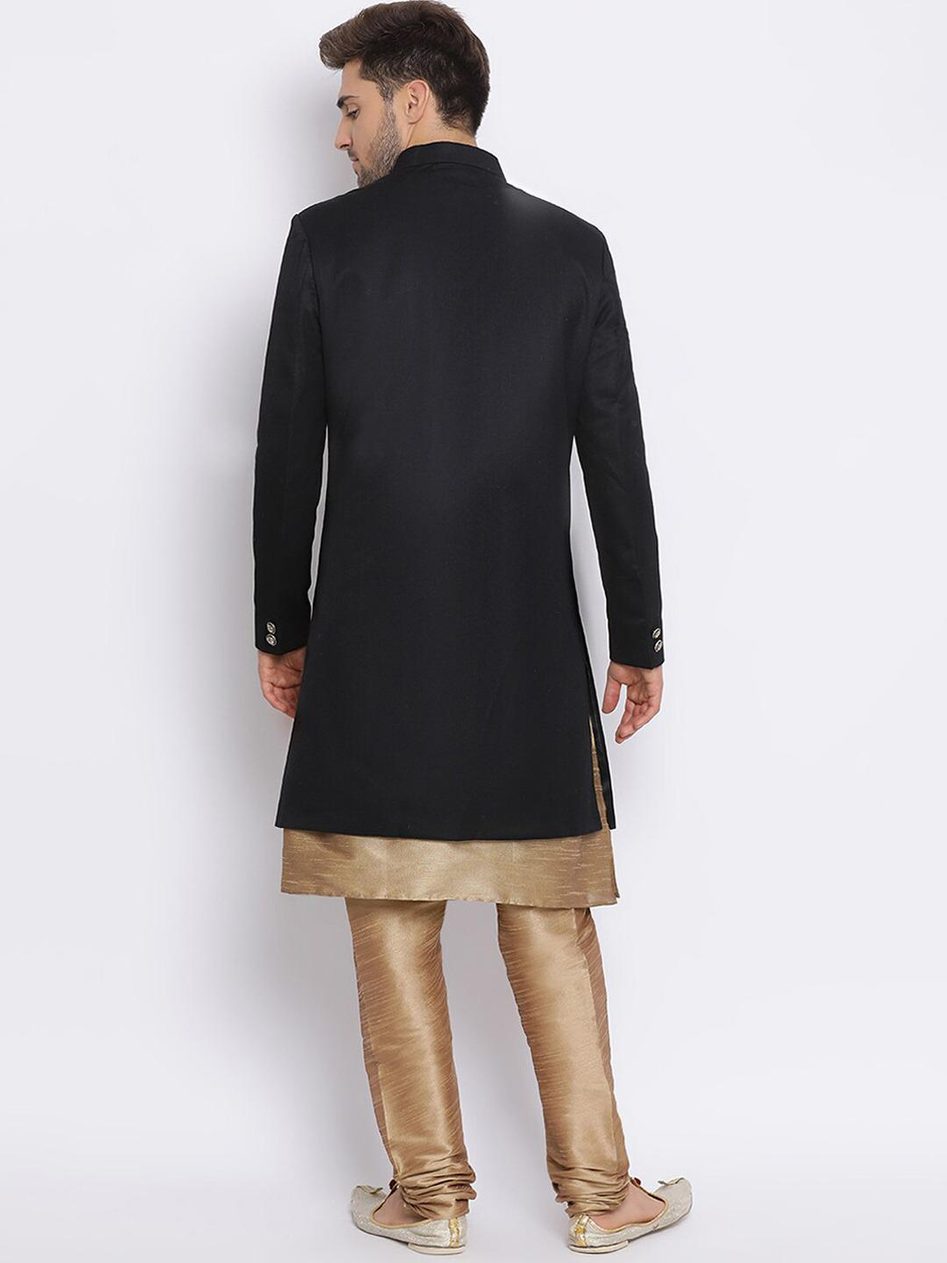Plain sherwani: (248, 139, 670, 848)
